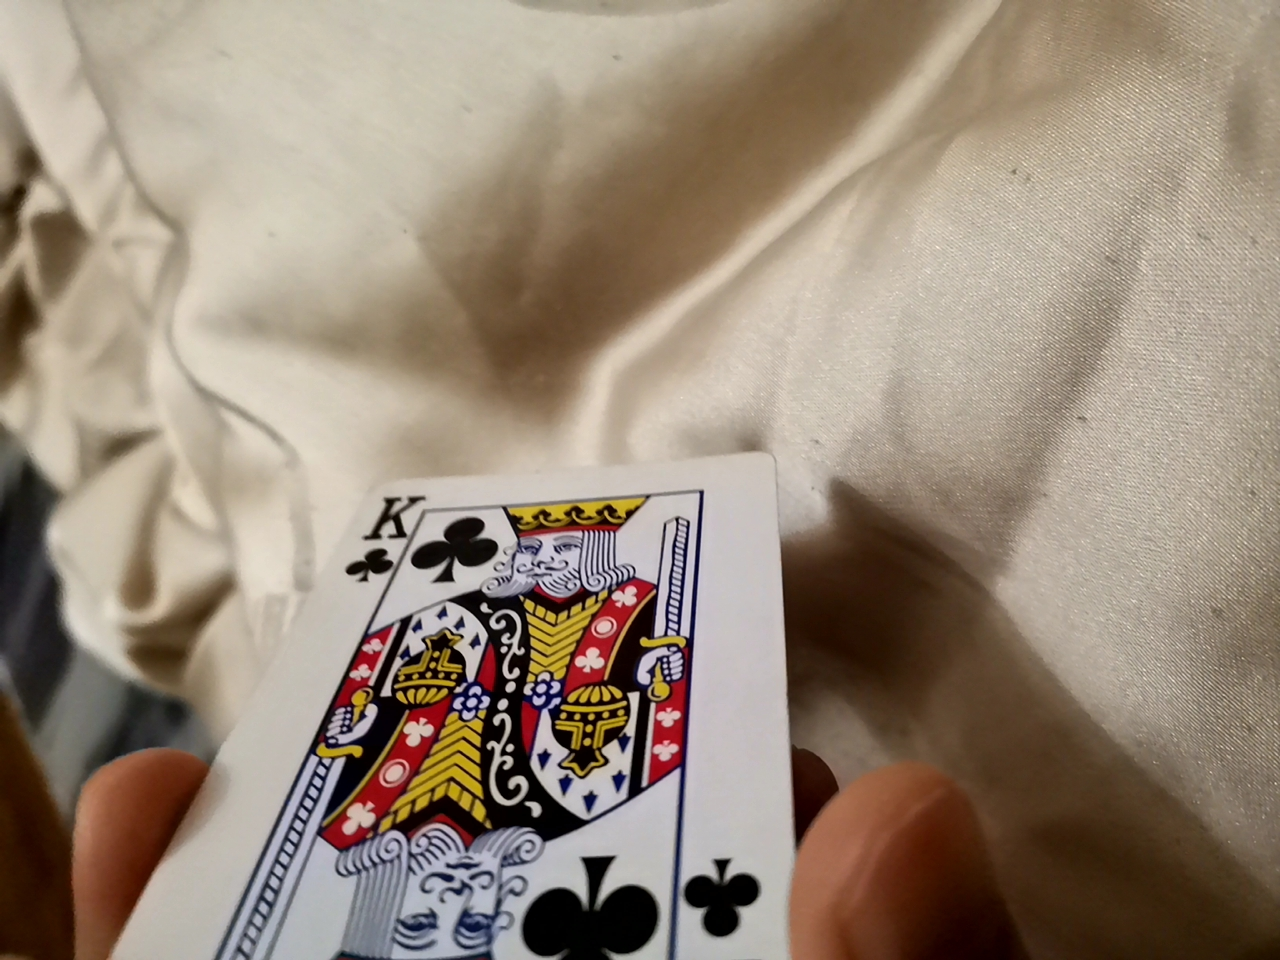mh k: (145, 464, 817, 957)
